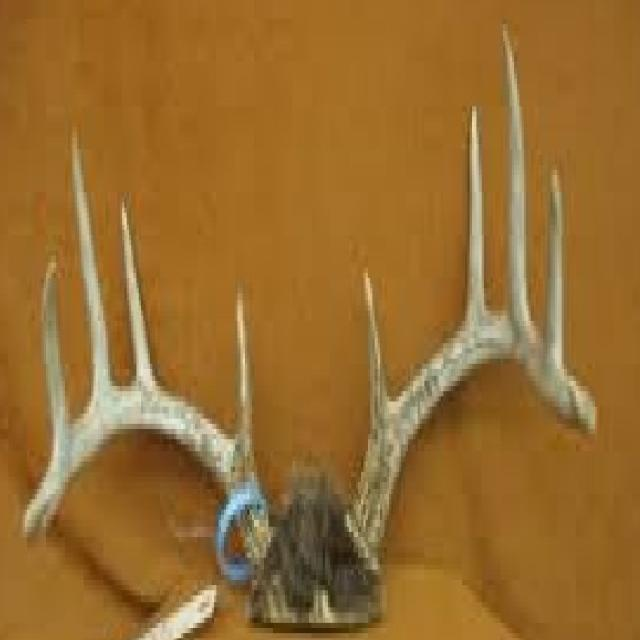L-F: (350, 330, 599, 566)
L-G1: (362, 269, 390, 437)
L-G2: (466, 101, 485, 320)
L-G3: (501, 26, 530, 317)
L-G4: (546, 165, 563, 367)
R-F: (23, 393, 272, 582)
R-G1: (233, 283, 254, 465)
R-G2: (120, 196, 158, 391)
R-G3: (72, 128, 111, 403)
R-G4: (42, 259, 66, 459)
